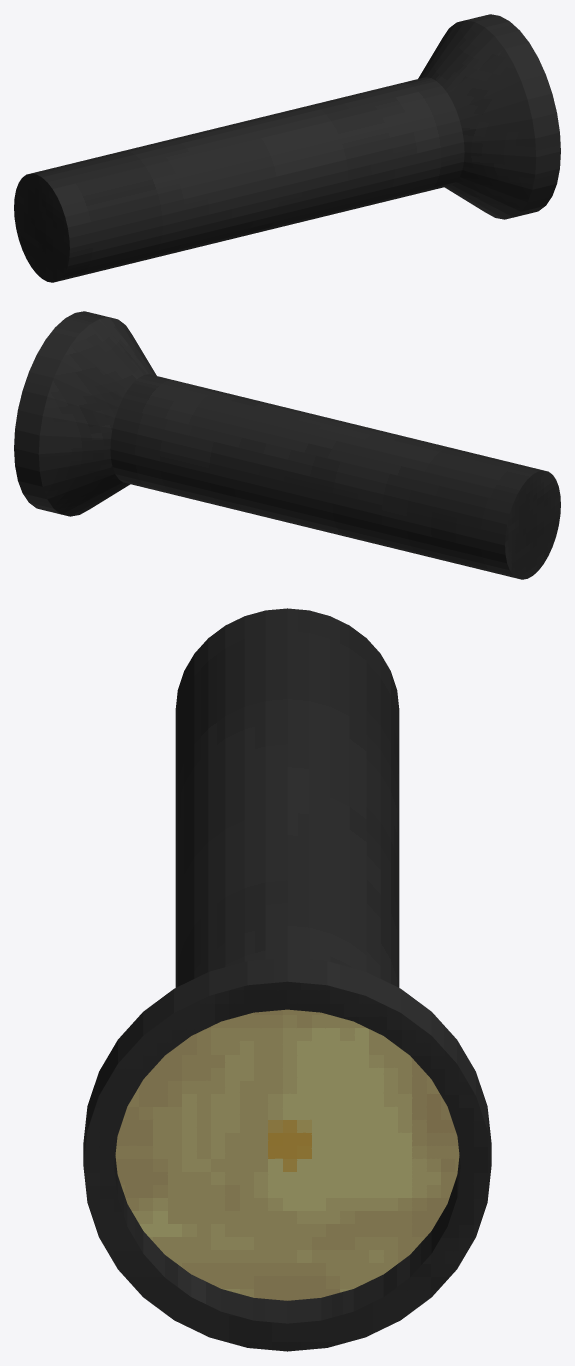
File: Flashlight.obj
3 renders of one model, top to bottom at view 1: azimuth 30°, elevation 25°; view 2: azimuth 150°, elevation 25°; view 3: azimuth 270°, elevation 25°, orthographic. The views are drawn at different scales.
Parts seen in each view (by area): view 1: Flashlight; view 2: Flashlight; view 3: Flashlight.
Boxes of the visible parts, x1,y1,x2,y2 form: Flashlight: (14, 14, 560, 282); Flashlight: (14, 311, 560, 579); Flashlight: (83, 608, 491, 1351).
Bounding box in the file's own units: 1.2 × 0.4523 × 0.4523.
